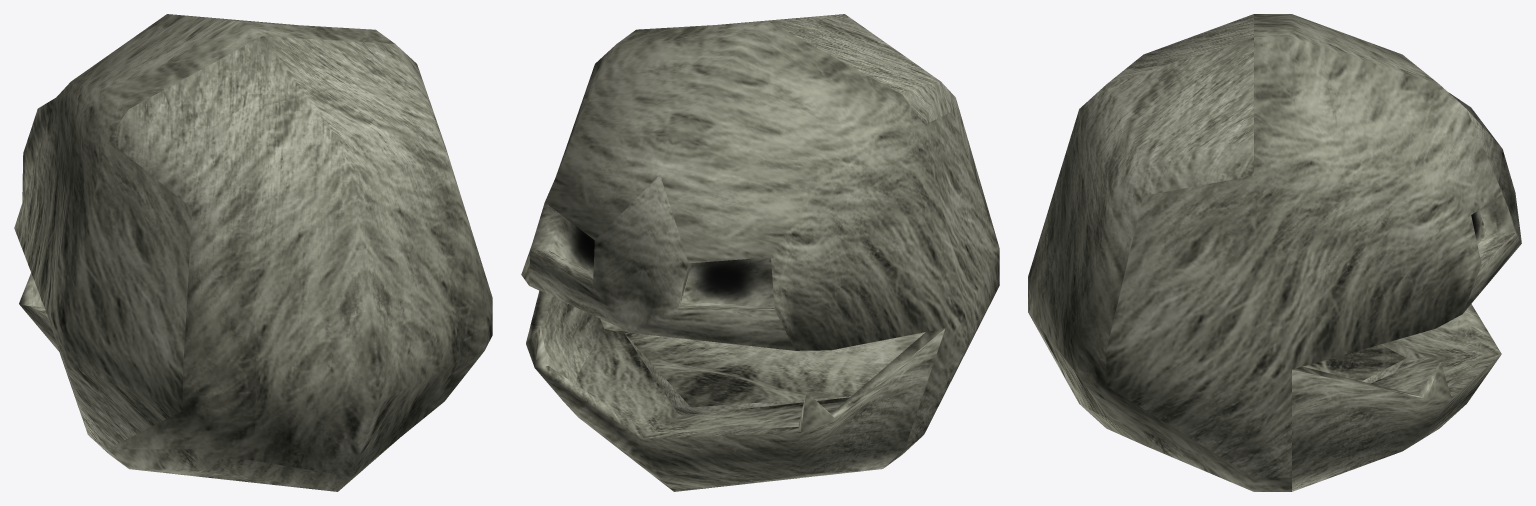
The model's file is head.gltf.
3 renders of one model, left to right at view 1: azimuth 30°, elevation 25°; view 2: azimuth 150°, elevation 25°; view 3: azimuth 270°, elevation 25°, orthographic. The views are drawn at different scales.
Visible parts, largest first — view 1: Cube, Jaw; view 2: Cube, Jaw; view 3: Cube, Jaw.
Boxes of the visible parts, bbox=[...] form: Cube: bbox=[14, 14, 492, 491]; Jaw: bbox=[19, 273, 78, 407]; Cube: bbox=[521, 14, 999, 467]; Jaw: bbox=[526, 290, 945, 491]; Cube: bbox=[1028, 14, 1521, 491]; Jaw: bbox=[1292, 304, 1501, 491].
Size of the model in its own units: 1.71 by 1.67 by 1.91.
Materials: 1 (1 with a texture image).
